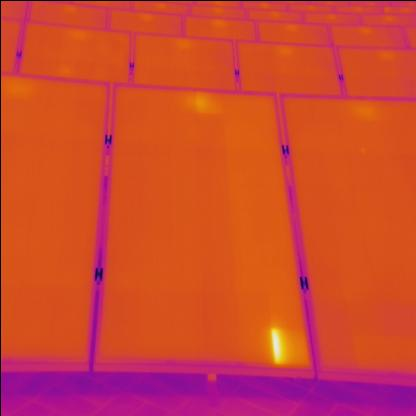hotspot: (268, 324, 309, 368)
